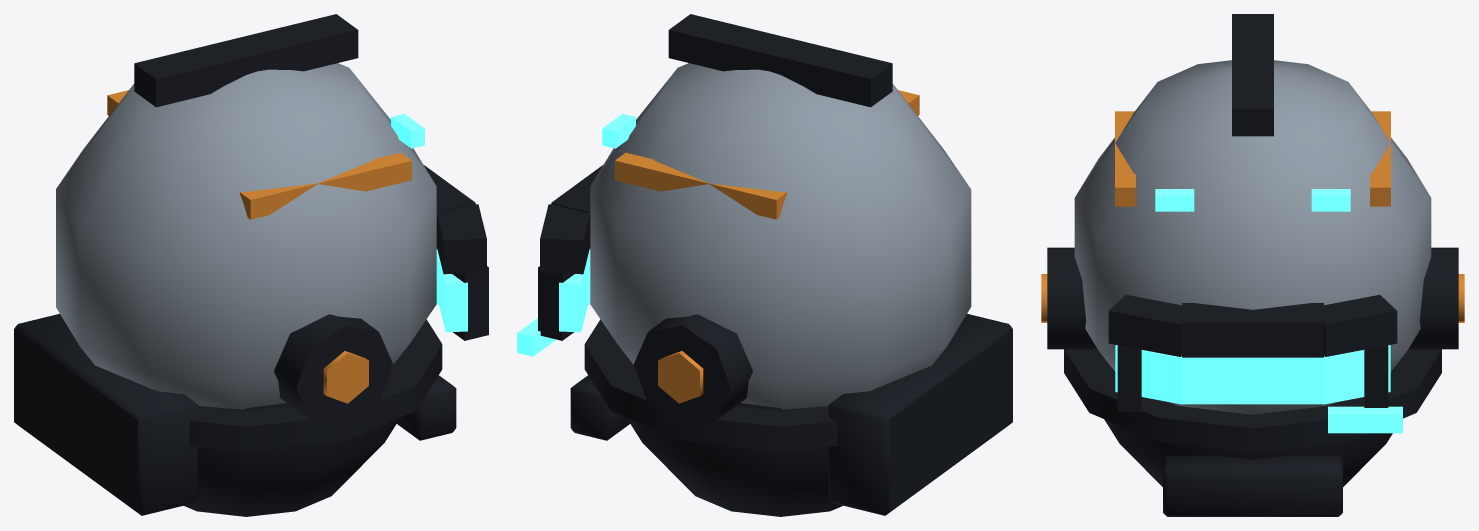
File: casco_ligero.glb
3 views of the same model, side by side, from view 1: azimuth 30°, elevation 25°; view 2: azimuth 150°, elevation 25°; view 3: azimuth 270°, elevation 25° (orthographic). The views are drawn at different scales.
Parts seen in each view (by area): view 1: casco_ligero; view 2: casco_ligero; view 3: casco_ligero.
Boxes of the visible parts, x1,y1,x2,y2 form: casco_ligero: (14,14,488,516); casco_ligero: (517,14,1012,516); casco_ligero: (1041,14,1464,516).
Bounding box in the file's own units: 0.271 × 0.322 × 0.282.
